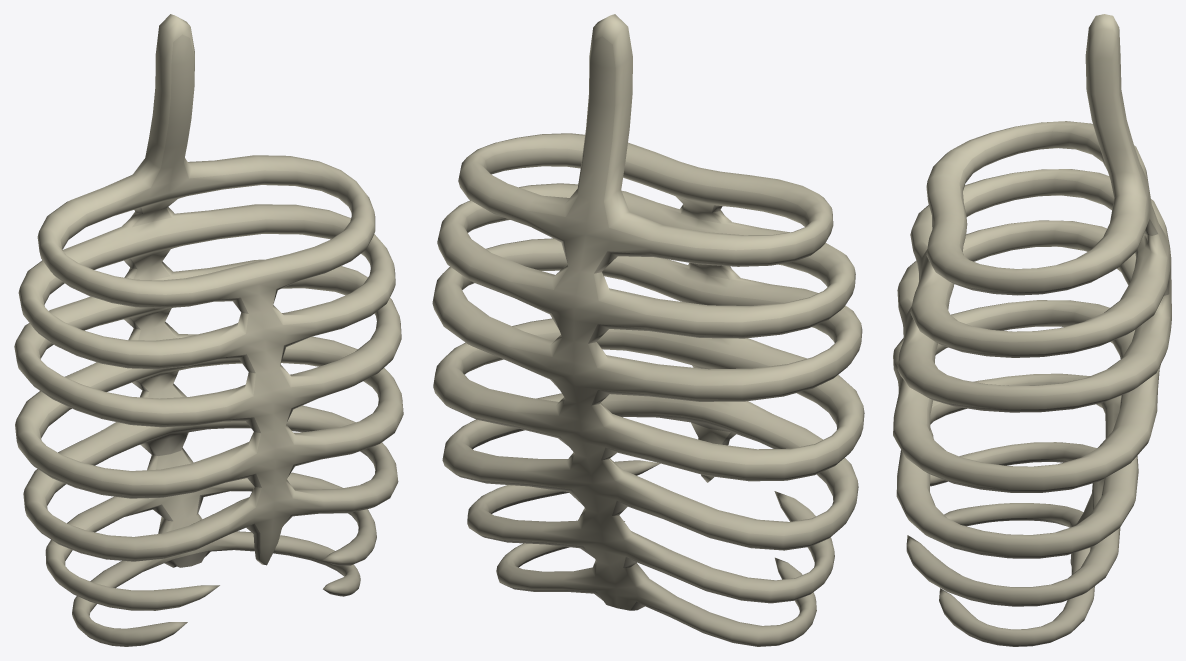
The model's file is Body.fbx.
3 renders of one model, left to right at view 1: azimuth 30°, elevation 25°; view 2: azimuth 150°, elevation 25°; view 3: azimuth 270°, elevation 25°, orthographic. The views are drawn at different scales.
Parts seen in each view (by area): view 1: polySurface93; view 2: polySurface93; view 3: polySurface93.
Part boxes in pixels (bbox=[...]): polySurface93: bbox=[14, 14, 403, 646]; polySurface93: bbox=[432, 14, 864, 646]; polySurface93: bbox=[893, 14, 1171, 646].
Bounding box in the file's own units: 2.46 × 3.74 × 1.66.
